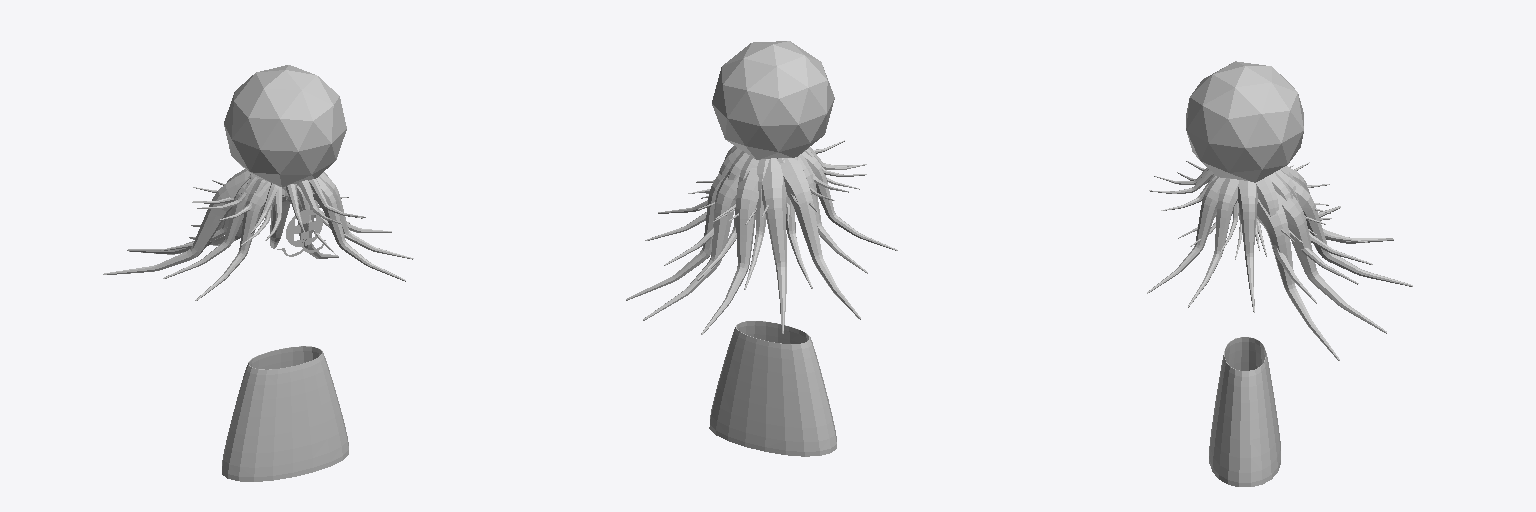
File: NecoArk2.obj
The picture shows the model from 3 angles: view 1: azimuth 30°, elevation 25°; view 2: azimuth 150°, elevation 25°; view 3: azimuth 270°, elevation 25°; orthographic projection.
Visible parts, largest first — view 1: Black_Plane; view 2: Black_Plane; view 3: Black_Plane.
Part boxes in pixels (x1,y1,x2,y2): Black_Plane: (103,65,413,481); Black_Plane: (626,41,897,456); Black_Plane: (1147,61,1412,486).
Size of the model in its own units: 1.09 by 1.66 by 1.03.